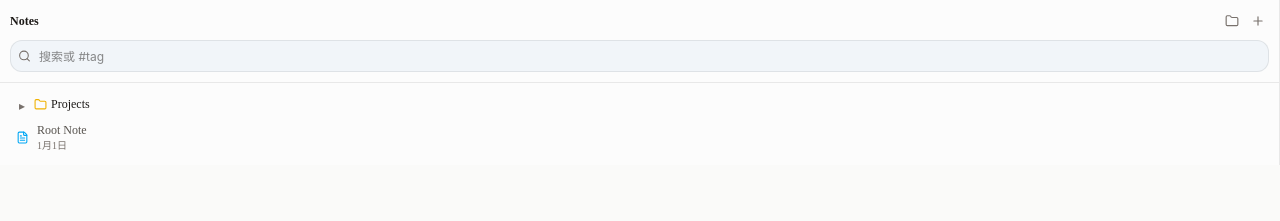
Test case: NoteSidebar tree rendering › renders mixed tree and toggles folder expand/collapse
expect the text "Root Note" is shown: met, box [37,123,87,137]
expect the text "Child Note" is not shown: met
Click the button titled "展开" at (22, 105), box [14,97,30,113]
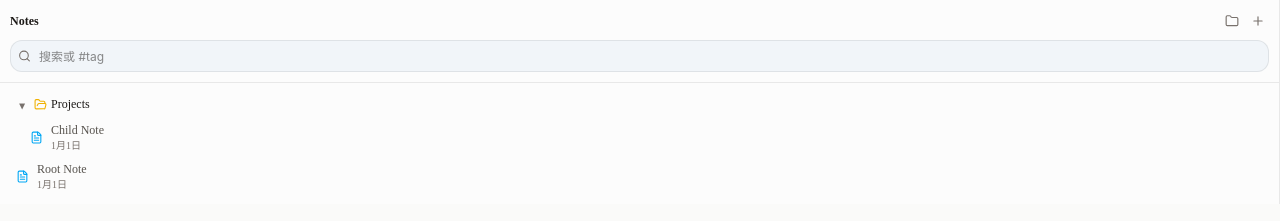
expect the text "Child Note" is shown: met, box [51,123,104,137]
Click the button titled "收起" at (22, 105), box [14,97,30,113]
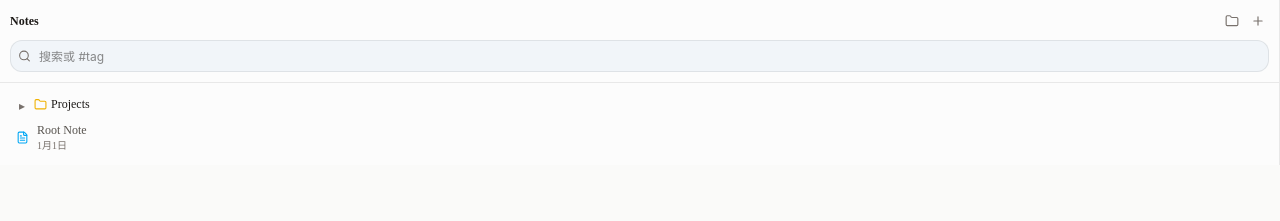
expect the button "Child Note" is gone: met
